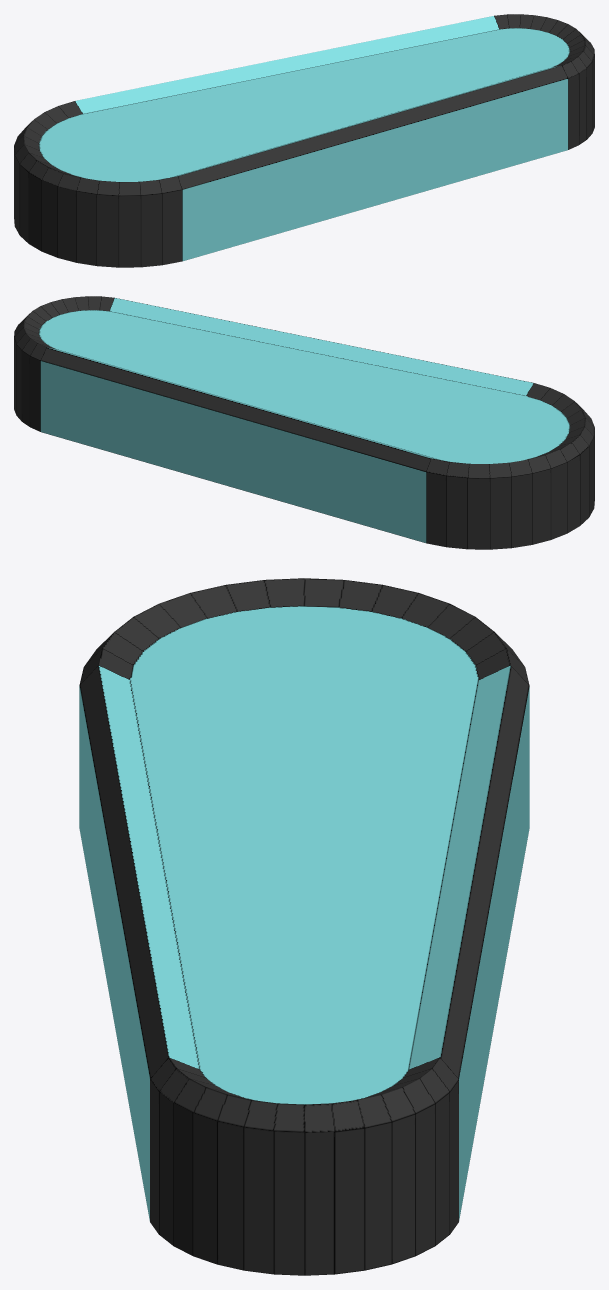
Rendered from flipper.fbx.
3 views of the same model, one above another, from view 1: azimuth 30°, elevation 25°; view 2: azimuth 150°, elevation 25°; view 3: azimuth 270°, elevation 25° (orthographic). The views are drawn at different scales.
Visible parts, largest first — view 1: Circle; view 2: Circle; view 3: Circle.
Part boxes in pixels (x1,y1,x2,y2): Circle: (14, 14, 594, 267); Circle: (14, 296, 594, 549); Circle: (79, 578, 529, 1275).
Bounding box in the file's own units: 570 × 80 × 200.
